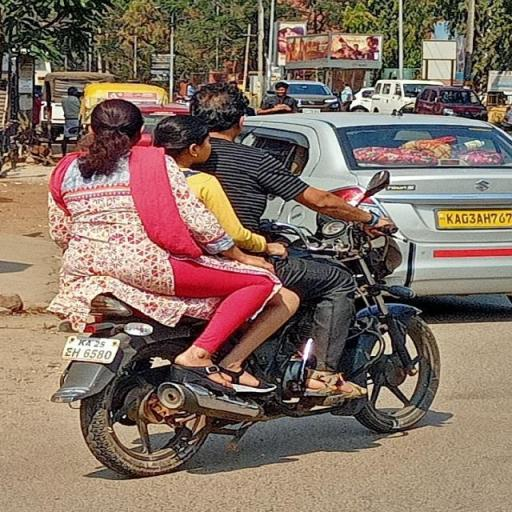tripple riding: (28, 72, 423, 366)
